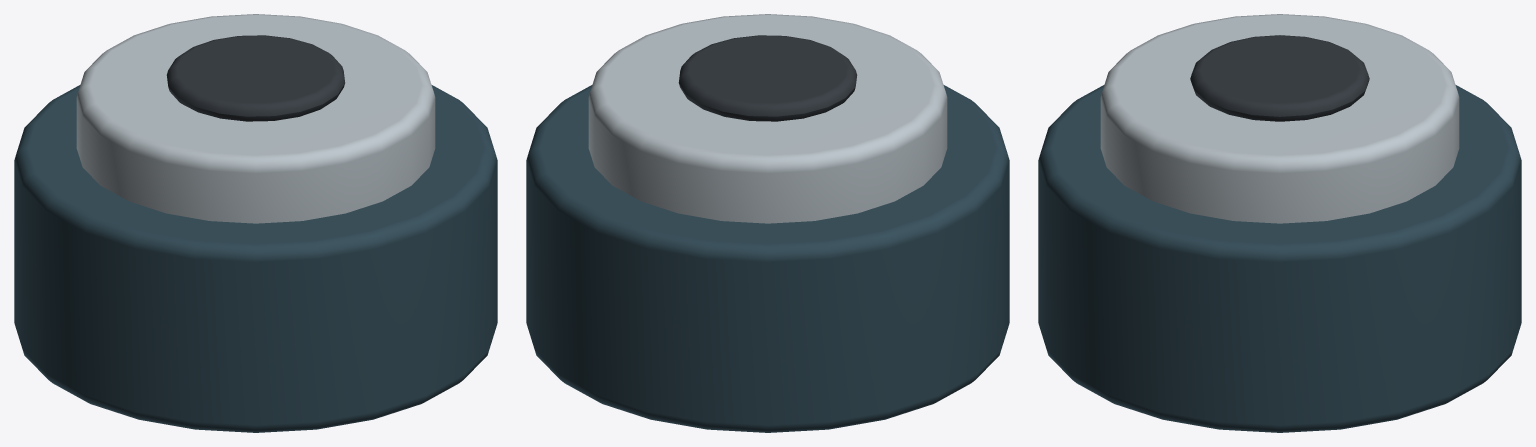
File: ENG_ConnectionSocket.fbx
3 views of the same model, side by side, from view 1: azimuth 30°, elevation 25°; view 2: azimuth 150°, elevation 25°; view 3: azimuth 270°, elevation 25° (orthographic).
Parts seen in each view (by area): view 1: Insulator, MetalRim, Receptacle; view 2: Insulator, MetalRim, Receptacle; view 3: Insulator, MetalRim, Receptacle.
Boxes of the visible parts, x1=… form: Insulator: x1=14, y1=85, x2=497, y2=432; MetalRim: x1=76, y1=14, x2=435, y2=223; Receptacle: x1=166, y1=35, x2=345, y2=121; Insulator: x1=526, y1=85, x2=1009, y2=432; MetalRim: x1=588, y1=14, x2=947, y2=223; Receptacle: x1=678, y1=35, x2=857, y2=121; Insulator: x1=1038, y1=85, x2=1521, y2=432; MetalRim: x1=1100, y1=14, x2=1459, y2=223; Receptacle: x1=1190, y1=35, x2=1369, y2=121.
Size of the model in its own units: 7 by 4.25 by 7.
